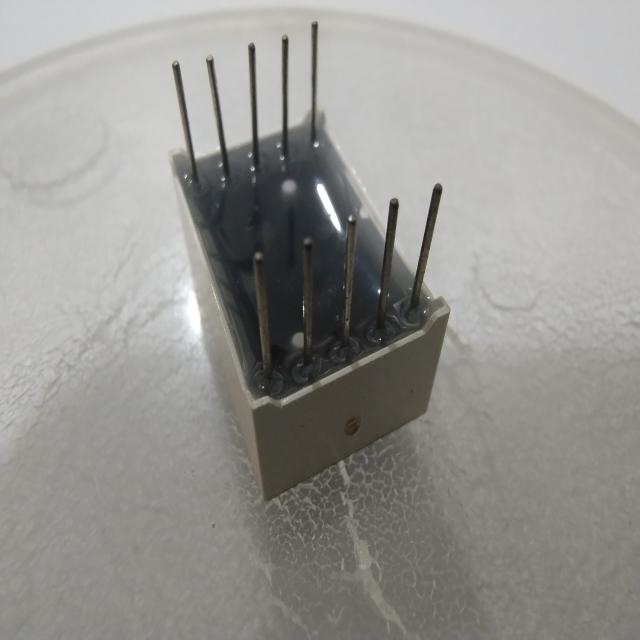7_segments: (142, 9, 456, 512)
